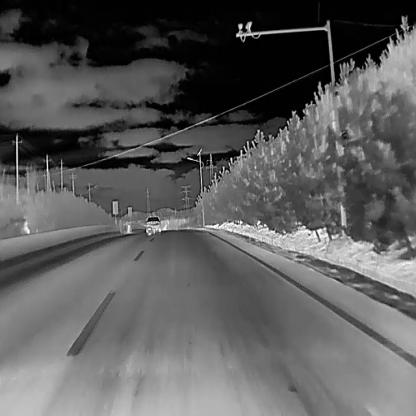car: (146, 216, 160, 232)
